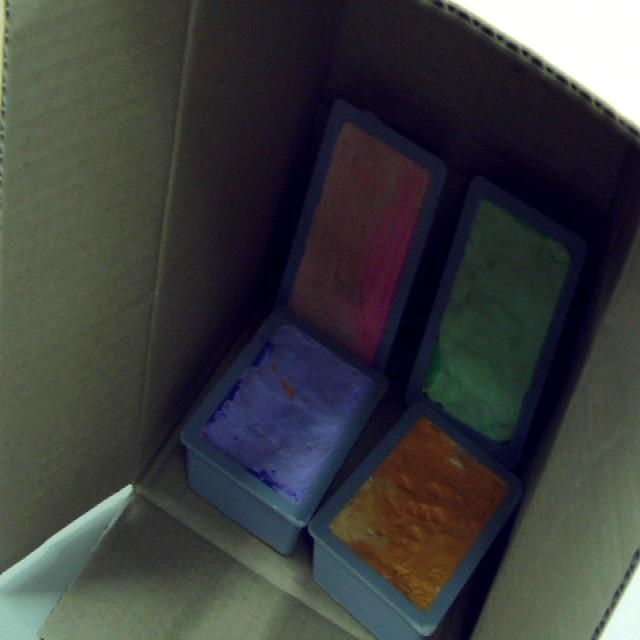block: (406, 177, 586, 468), (310, 400, 522, 640), (182, 321, 386, 554), (287, 107, 449, 367)
